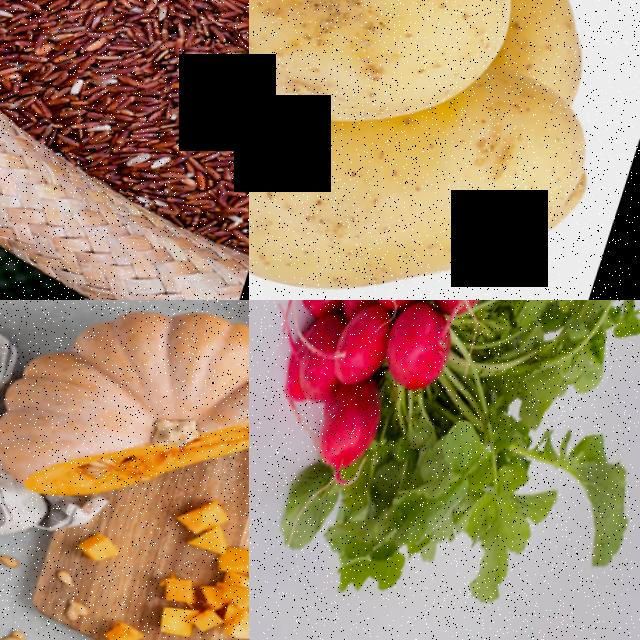potato: (249, 80, 612, 300), (249, 0, 570, 146)
pumpkin: (0, 300, 249, 555)
radishes: (249, 300, 555, 517)
red rice: (59, 32, 249, 235), (0, 0, 249, 94)
